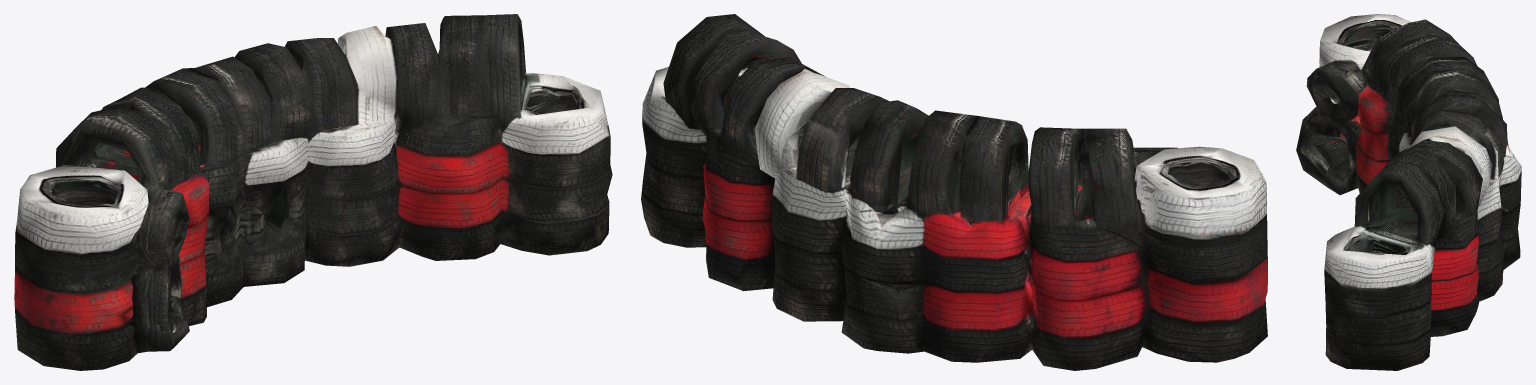
File: tires.glb
3 renders of one model, left to right at view 1: azimuth 30°, elevation 25°; view 2: azimuth 150°, elevation 25°; view 3: azimuth 270°, elevation 25°, orthographic. The views are drawn at different scales.
Visible parts, largest first — view 1: Mesh_0; view 2: Mesh_0; view 3: Mesh_0.
Part boxes in pixels (box(x1,y1,x2,y2)): Mesh_0: box(14, 14, 612, 370); Mesh_0: box(641, 14, 1267, 370); Mesh_0: box(1296, 14, 1521, 370).
Size of the model in its own units: 1.89 by 0.6694 by 0.778.
Materials: 1 (1 with a texture image).
